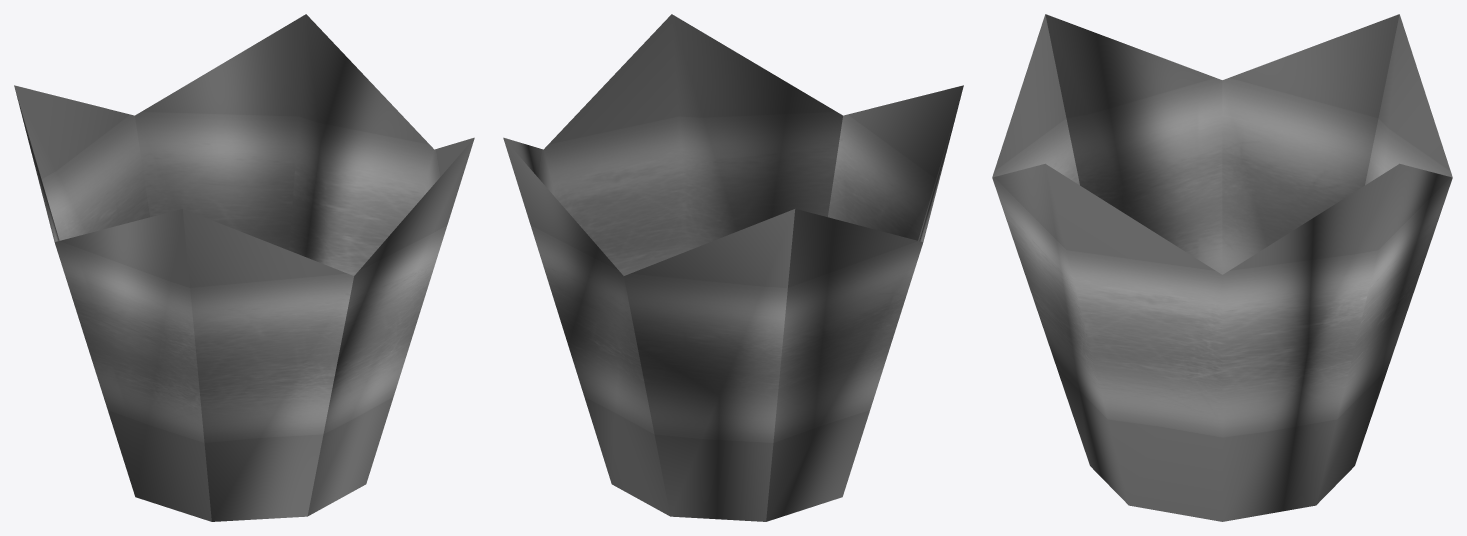
The model's file is beam_chest.fbx.
3 views of the same model, side by side, from view 1: azimuth 30°, elevation 25°; view 2: azimuth 150°, elevation 25°; view 3: azimuth 270°, elevation 25° (orthographic). The views are drawn at different scales.
Parts seen in each view (by area): view 1: beam_chest; view 2: beam_chest; view 3: beam_chest.
Part boxes in pixels (x1,y1,x2,y2): beam_chest: (14, 14, 474, 521); beam_chest: (503, 14, 963, 521); beam_chest: (992, 14, 1452, 521).
Size of the model in its own units: 4.81 by 4.35 by 4.81.
